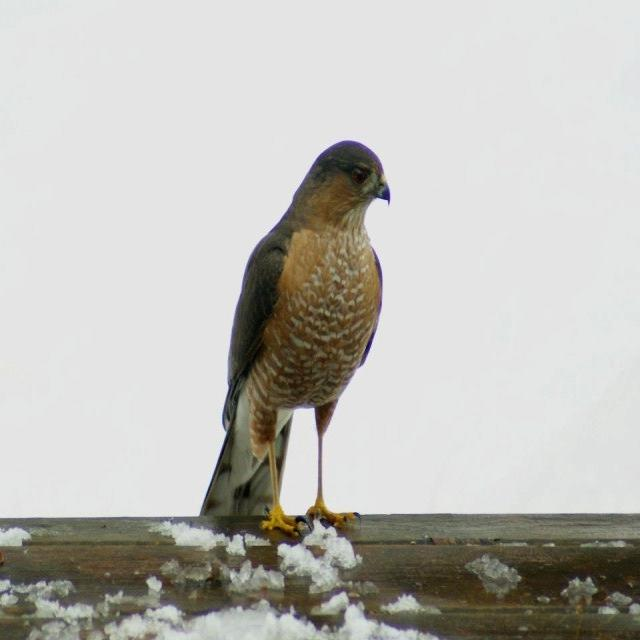bird: (191, 139, 404, 539)
